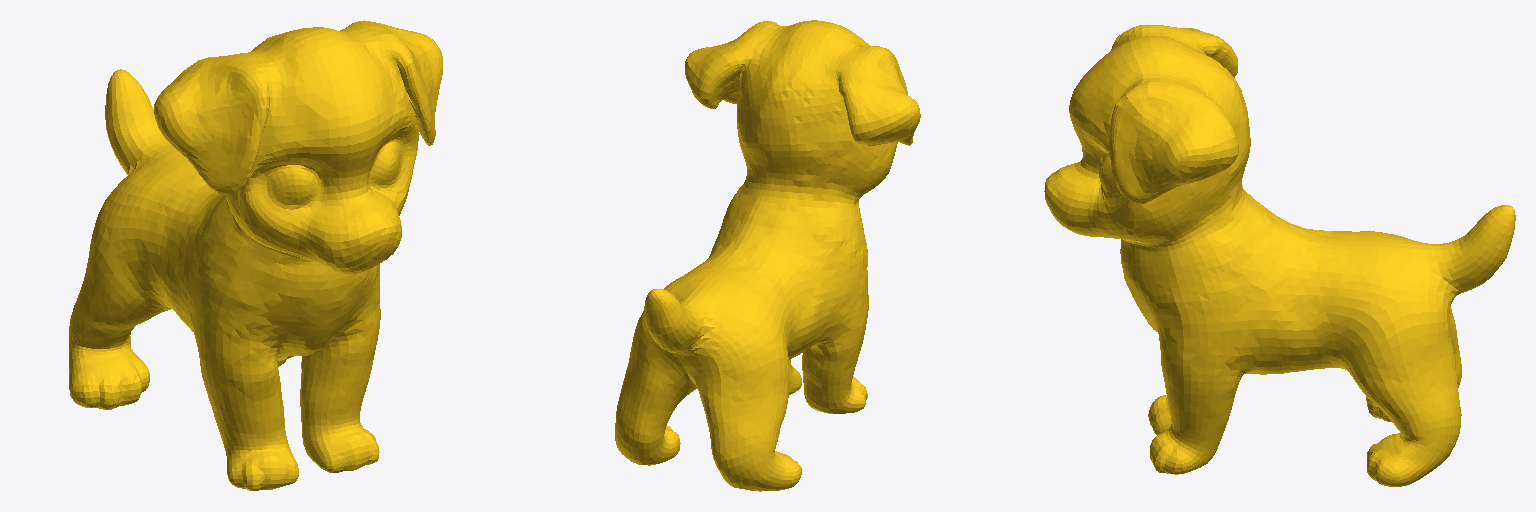
URDF robot description (dog):
<?xml version="1.0" ?>
<robot name="dog">

  <material name = "dark-yellow">
    <color rgba = "1 0.8196078431 0.1450980392 1" />
  </material>

  <link name="base" concave="yes">
    <visual>
      <origin rpy="0 0 0" xyz="0 0 0"/>
      <geometry>
        <mesh filename="dog.stl" scale="1 1 1"/>
      </geometry>
      <material name="dark-yellow"/>
    </visual>
    <collision concave="yes">
      <origin rpy="0 0 0" xyz="0 0 0"/>
      <geometry>
        <mesh filename="dog.stl" scale="1 1 1"/>
      </geometry>
    </collision>
    <inertial>
      <origin rpy="0 0 0" xyz="0 0 0"/>
      <mass value="0"/>
      <inertia ixx="0" ixy="0" ixz="0" iyy="0" iyz="0" izz="0"/>
    </inertial>
  </link>

</robot>

--- Render facts (derived) ---
3 views of the same robot in one strip: view 1: azimuth 30°, elevation 25°; view 2: azimuth 150°, elevation 25°; view 3: azimuth 270°, elevation 25° (orthographic).
Robot: dog — 1 links, 0 joints (none); root link base; default pose: every joint at zero.
Visible links, largest first — view 1: base; view 2: base; view 3: base.
Link boxes in pixels (x1,y1,x2,y2): base: (69,20,442,490); base: (615,20,920,491); base: (1044,25,1515,486).
Size in the robot's own frame: 0.247 by 0.4003 by 0.3793 metres.
Meshes: 1 distinct files referenced, 1 mesh visuals loaded (1 binary STL).
